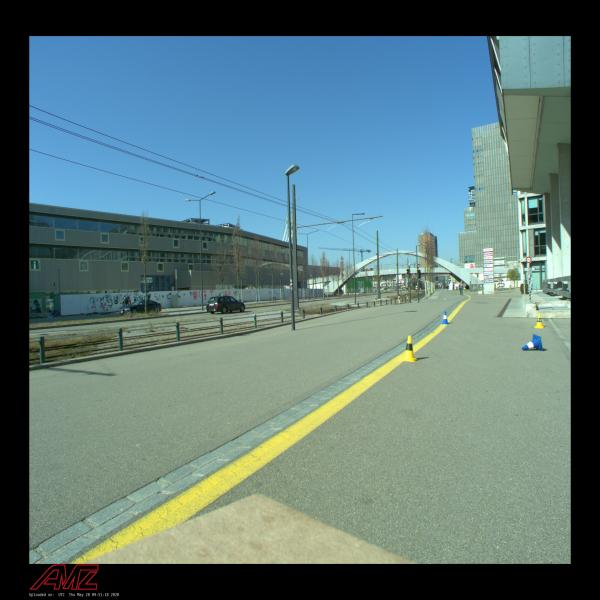blue_cone: (522, 334, 543, 351), (440, 312, 450, 325)
yellow_cone: (400, 336, 418, 362), (534, 314, 545, 328)
